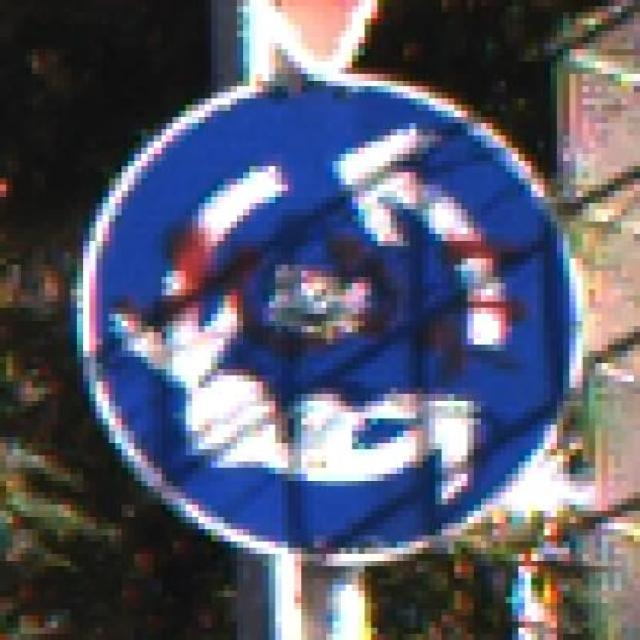Round-About: (38, 61, 620, 584)
